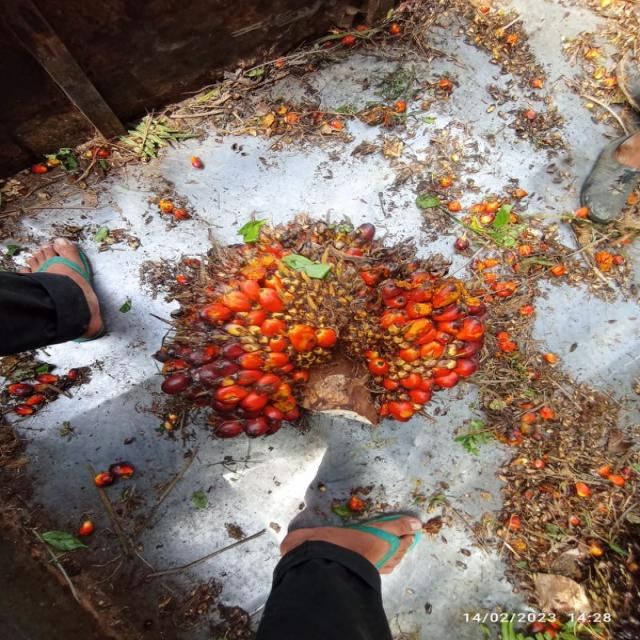fraksi 4: (158, 182, 540, 440)
